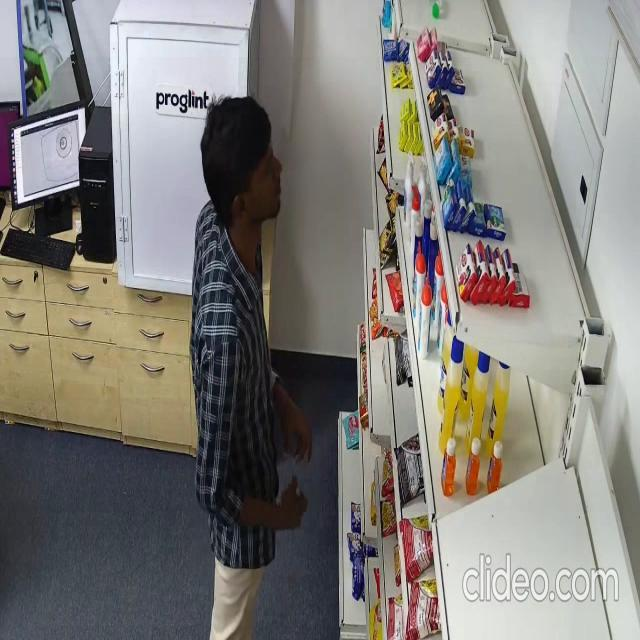normal: (189, 84, 316, 640)
